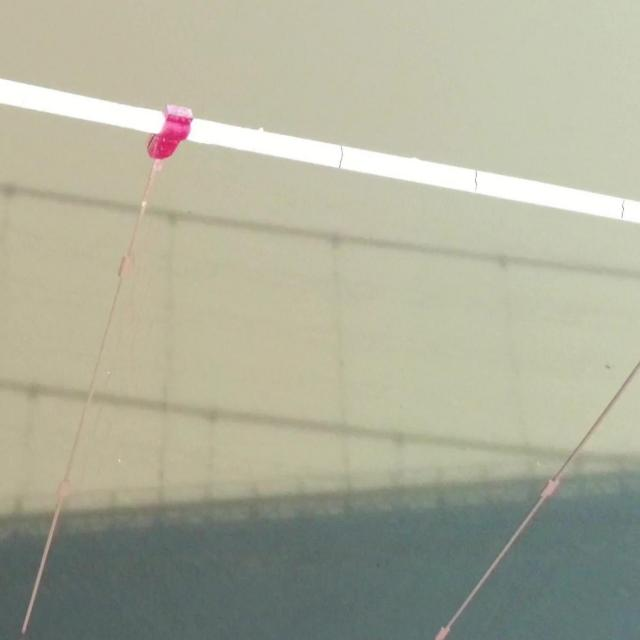crack: (338, 146, 344, 168), (474, 170, 478, 193), (621, 199, 625, 219)
